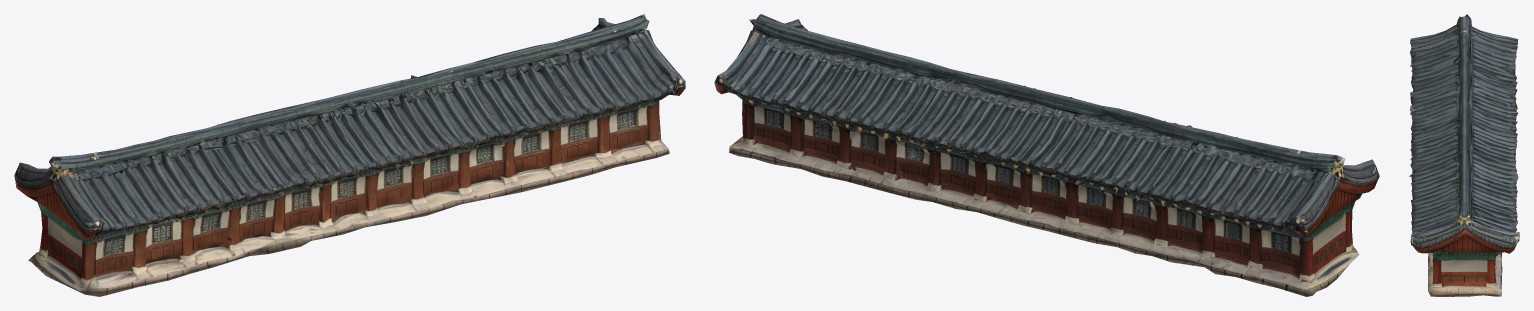
The model's file is 경복궁_회랑.glb.
3 renders of one model, left to right at view 1: azimuth 30°, elevation 25°; view 2: azimuth 150°, elevation 25°; view 3: azimuth 270°, elevation 25°, orthographic. The views are drawn at different scales.
Visible parts, largest first — view 1: texture_mapping; view 2: texture_mapping; view 3: texture_mapping.
Part boxes in pixels (x1,y1,x2,y2): texture_mapping: [14, 14, 685, 296]; texture_mapping: [714, 14, 1379, 296]; texture_mapping: [1409, 14, 1519, 296].
Bounding box in the file's own units: 0.9977 × 0.2 × 0.2326.
Materials: 1 (1 with a texture image).
